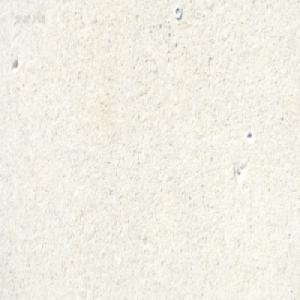Washer: (174, 4, 181, 19)
